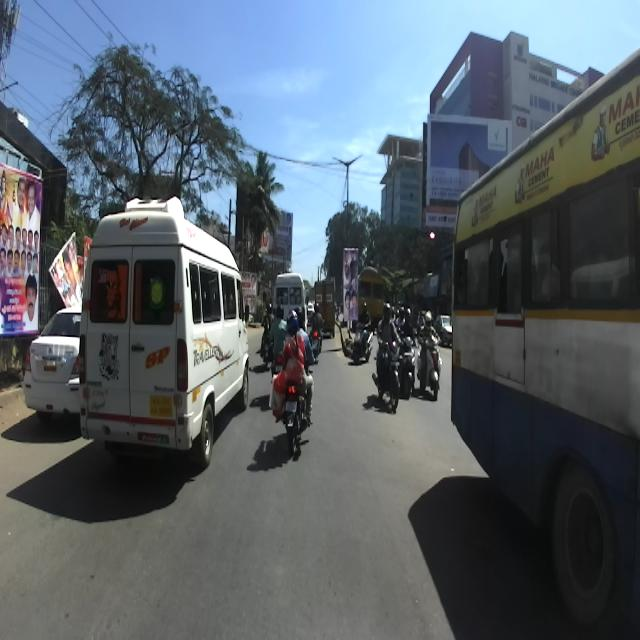bus ahead at: (81, 186, 258, 474)
motorcycle ahead at: (268, 374, 320, 470), (371, 336, 403, 412)
